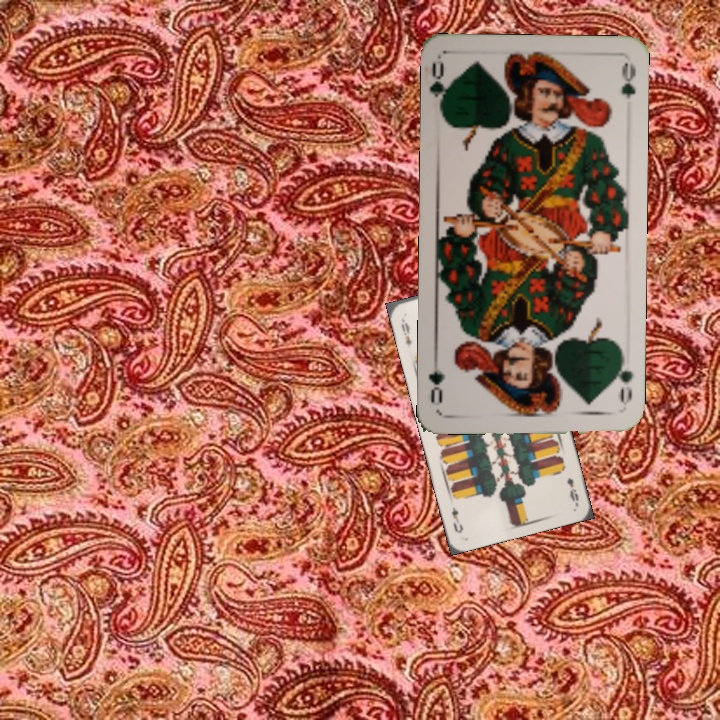E9: (397, 314, 415, 350), (563, 474, 581, 506)
GO: (427, 58, 454, 117), (610, 351, 635, 408)
